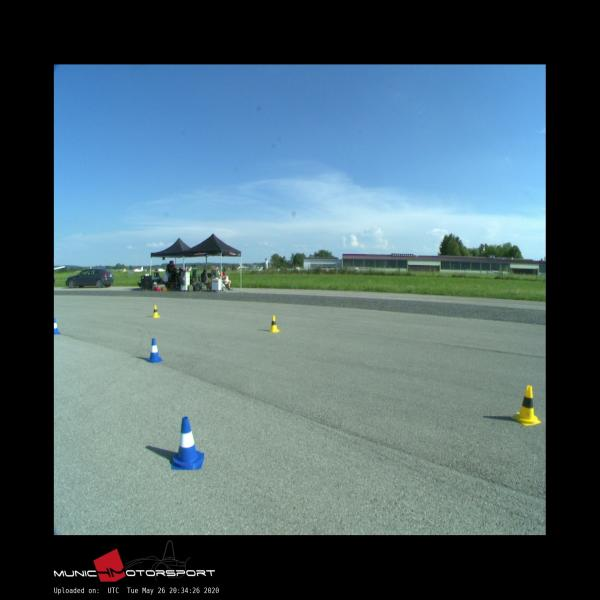blue_cone: (171, 416, 204, 469), (148, 339, 162, 363), (54, 318, 60, 334)
yellow_cone: (510, 385, 542, 425), (268, 316, 280, 331), (152, 306, 160, 318)
